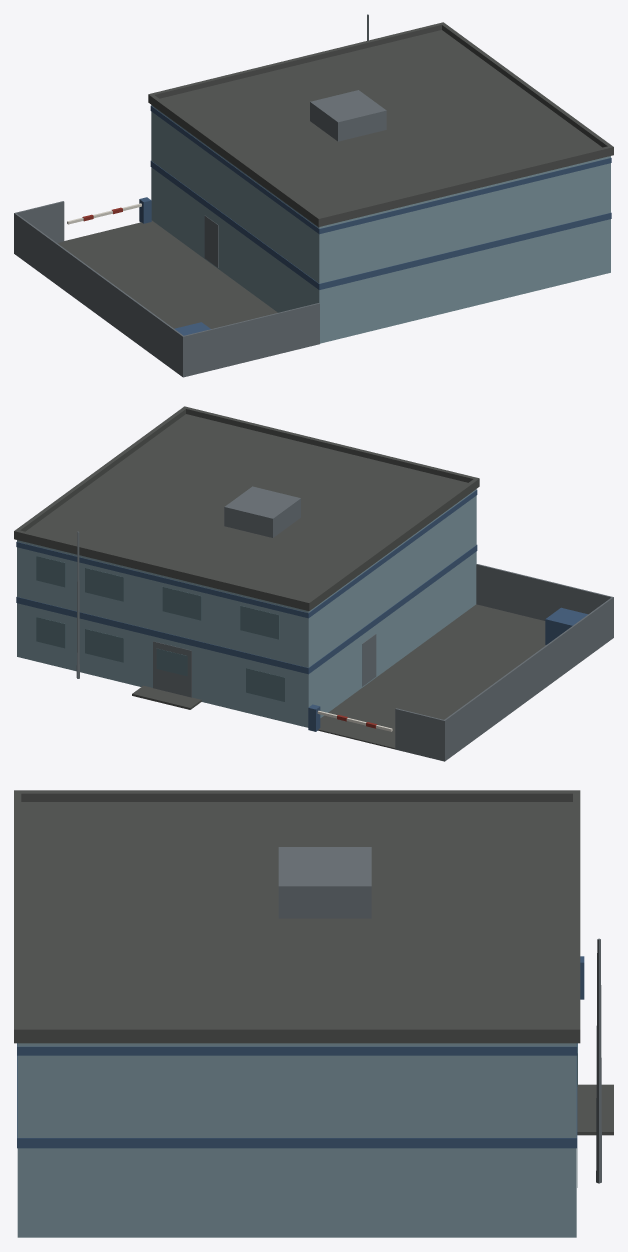
The model's file is police_lod1.glb.
3 views of the same model, one above another, from view 1: azimuth 30°, elevation 25°; view 2: azimuth 150°, elevation 25°; view 3: azimuth 270°, elevation 25° (orthographic). The views are drawn at different scales.
Visible parts, largest first — view 1: police_lod1; view 2: police_lod1; view 3: police_lod1.
Boxes of the visible parts, x1,y1,x2,y2 form: police_lod1: (14, 14, 613, 377); police_lod1: (14, 406, 613, 761); police_lod1: (14, 790, 613, 1237).
Size of what is drawn, in the model's own units: 22.14 by 7.22 by 16.1.
Materials: 2 (2 with a texture image).
